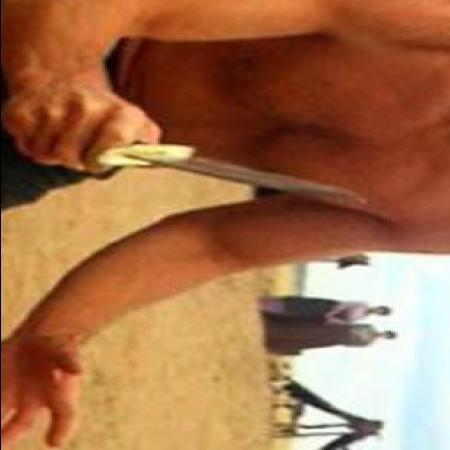long weapon: (14, 112, 386, 210)
